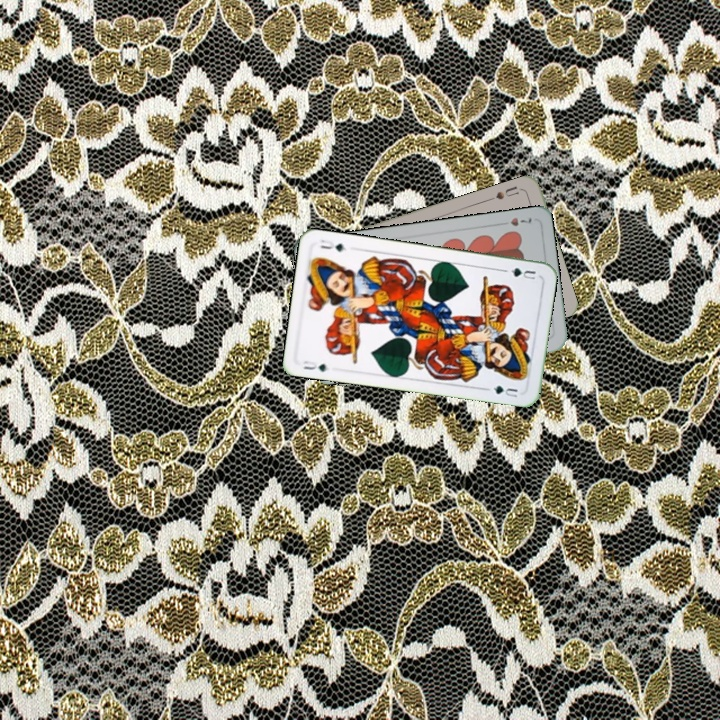GU: (298, 356, 332, 374), (507, 264, 539, 282)
H7: (506, 213, 534, 229)
SU: (485, 182, 525, 203)
